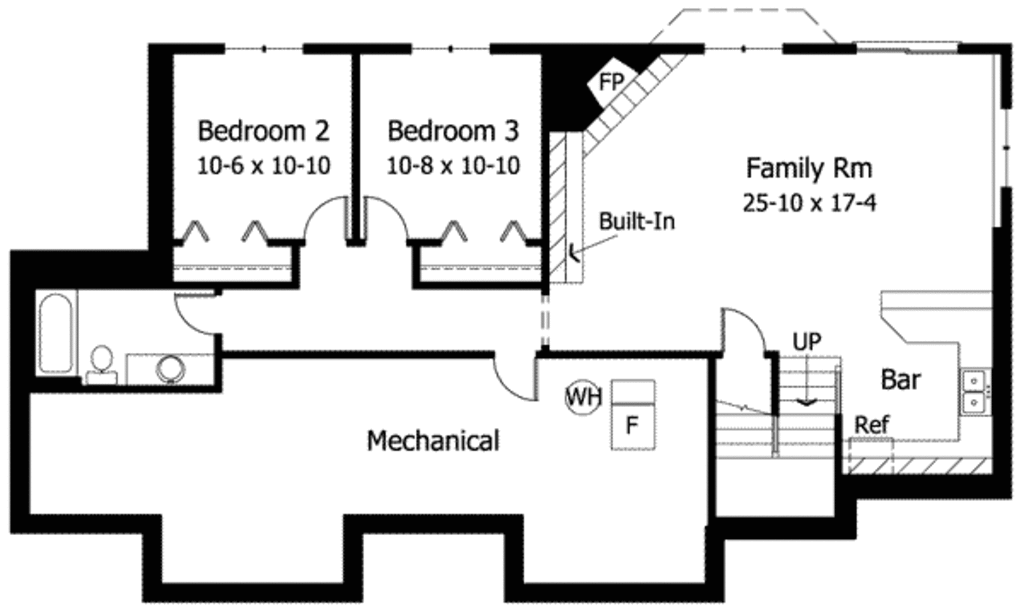door: (713, 305, 775, 359), (355, 191, 411, 244), (297, 192, 349, 244), (489, 350, 539, 402), (169, 288, 226, 333)
large_sink: (76, 344, 120, 387)
small_sink: (126, 353, 213, 386)
stairs: (714, 354, 845, 468)
tub: (28, 284, 81, 374)
twin_sink: (954, 360, 991, 422)
window: (990, 101, 1016, 222), (851, 36, 961, 54), (403, 37, 490, 58), (703, 43, 784, 59), (227, 45, 303, 54)
